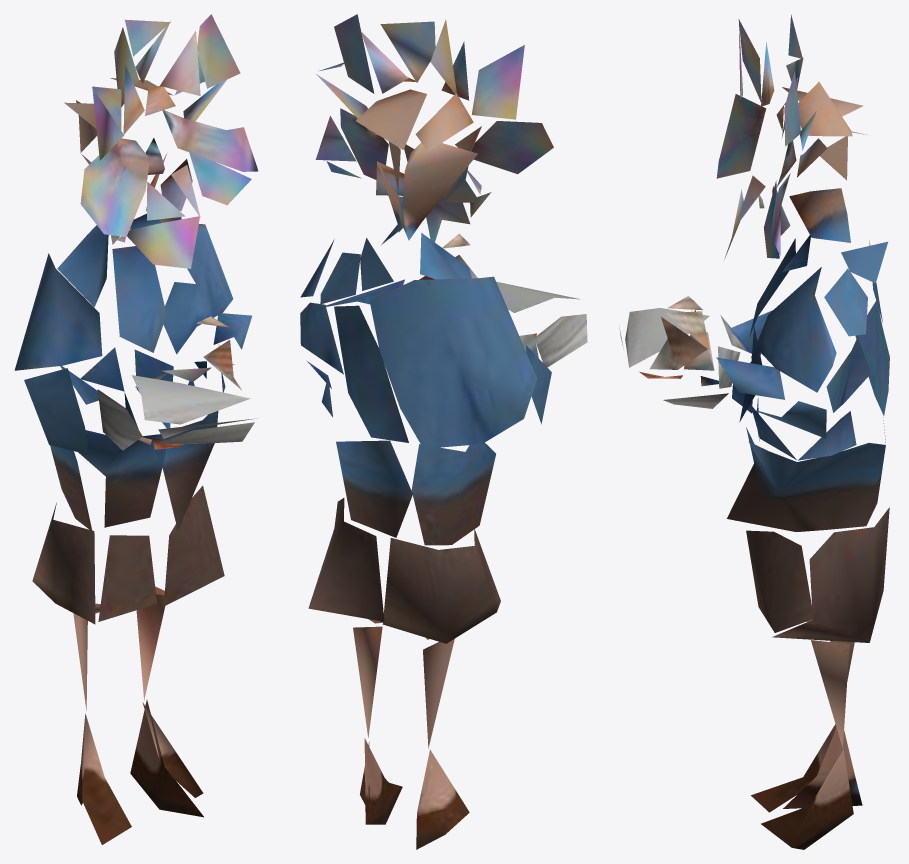
File: crowd_assistant_lite.glb
3 views of the same model, side by side, from view 1: azimuth 30°, elevation 25°; view 2: azimuth 150°, elevation 25°; view 3: azimuth 270°, elevation 25° (orthographic).
Visible parts, largest first — view 1: tripo_node_583bd843-d0c9-4fd2-bfd0-3545a6174963; view 2: tripo_node_583bd843-d0c9-4fd2-bfd0-3545a6174963; view 3: tripo_node_583bd843-d0c9-4fd2-bfd0-3545a6174963.
Boxes of the visible parts, x1,y1,x2,y2 form: tripo_node_583bd843-d0c9-4fd2-bfd0-3545a6174963: (14, 14, 258, 844); tripo_node_583bd843-d0c9-4fd2-bfd0-3545a6174963: (300, 14, 587, 849); tripo_node_583bd843-d0c9-4fd2-bfd0-3545a6174963: (619, 14, 889, 849).
Bounding box in the file's own units: 0.5698 × 1.84 × 0.5731.
Materials: 1 (1 with a texture image).
